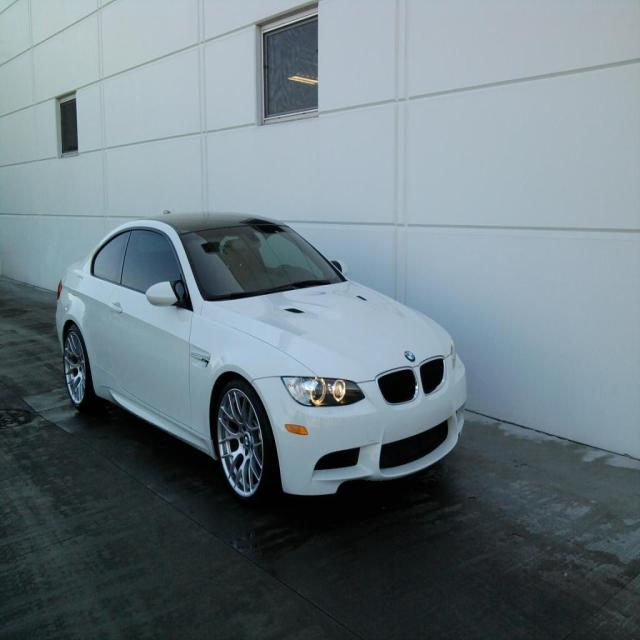Car: (55, 210, 468, 503)
